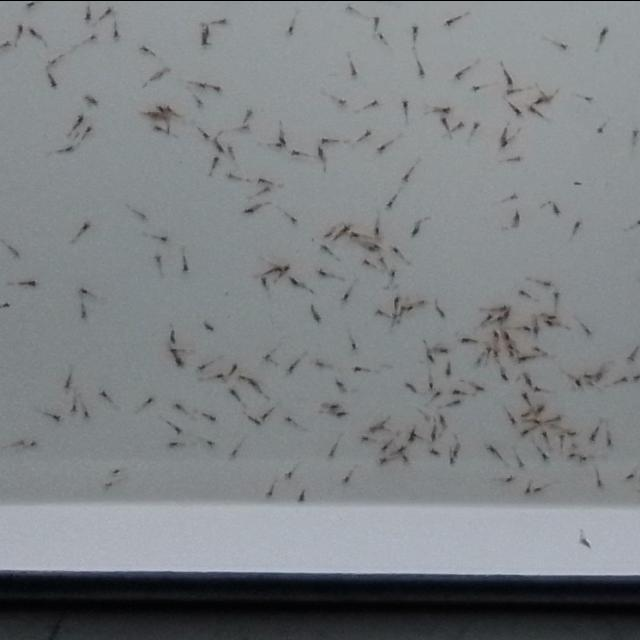shrimp-seed: (582, 322, 596, 337), (432, 304, 447, 318), (348, 61, 360, 76), (367, 98, 382, 110), (296, 488, 308, 503), (62, 374, 73, 390), (580, 534, 592, 548), (516, 288, 532, 298), (599, 26, 612, 38), (626, 349, 638, 362), (399, 98, 412, 110), (409, 224, 422, 236), (325, 446, 338, 458), (558, 39, 572, 50), (168, 327, 178, 342), (28, 26, 40, 38), (9, 245, 21, 257), (404, 381, 416, 393), (205, 321, 217, 333), (229, 362, 241, 374), (228, 388, 240, 400), (515, 456, 526, 469), (390, 244, 403, 255), (246, 204, 260, 214), (159, 64, 173, 74), (310, 311, 324, 321), (584, 93, 596, 104), (578, 452, 590, 463), (504, 473, 516, 484), (485, 443, 497, 454), (217, 15, 229, 26), (15, 22, 26, 34), (572, 220, 585, 230), (514, 103, 524, 116), (391, 296, 401, 309), (288, 276, 301, 286), (500, 126, 510, 138), (520, 408, 532, 418), (540, 450, 552, 460), (498, 372, 510, 382), (344, 2, 356, 12), (399, 173, 411, 183), (284, 24, 296, 34), (316, 146, 326, 158), (277, 134, 289, 144), (288, 214, 300, 224), (196, 79, 208, 89), (140, 42, 152, 52), (88, 94, 100, 104), (214, 142, 226, 152), (224, 144, 236, 154), (372, 226, 384, 236), (340, 292, 352, 302), (280, 264, 292, 274), (258, 274, 270, 284), (152, 253, 164, 263), (314, 358, 326, 368), (282, 469, 294, 479), (229, 448, 241, 458), (238, 373, 250, 383), (98, 388, 110, 398), (288, 148, 302, 156), (256, 176, 270, 184), (606, 435, 616, 446), (517, 354, 528, 364), (442, 18, 453, 28), (200, 34, 211, 44), (49, 76, 60, 86), (1, 39, 12, 49), (270, 264, 281, 274), (247, 378, 258, 388), (206, 438, 217, 448), (104, 480, 115, 490), (470, 83, 482, 92), (455, 120, 467, 129), (428, 447, 440, 456), (339, 224, 352, 232), (26, 278, 39, 286), (195, 364, 208, 372), (626, 470, 636, 480), (553, 204, 563, 214), (594, 477, 604, 487), (589, 432, 599, 442), (594, 372, 604, 382), (575, 378, 585, 388), (532, 324, 542, 334), (524, 372, 534, 382), (522, 323, 532, 333), (520, 428, 530, 438), (508, 415, 518, 425), (410, 24, 420, 34), (485, 312, 495, 322), (446, 456, 456, 466), (372, 14, 382, 24), (377, 30, 387, 40), (384, 198, 394, 208), (244, 107, 254, 117), (202, 28, 212, 38), (75, 114, 85, 124), (151, 108, 161, 118), (211, 156, 221, 166), (388, 266, 398, 276), (360, 256, 370, 266), (139, 210, 149, 220), (180, 262, 190, 272), (80, 309, 90, 319), (2, 300, 12, 310), (429, 429, 439, 439), (401, 454, 411, 464), (361, 434, 371, 444), (336, 409, 346, 419), (266, 488, 276, 498), (260, 410, 270, 420), (251, 416, 261, 426), (216, 370, 226, 380), (174, 356, 184, 366), (82, 408, 92, 418), (70, 402, 80, 412), (104, 5, 115, 14), (349, 341, 360, 350), (506, 72, 514, 84), (507, 191, 519, 199), (513, 209, 521, 221), (544, 320, 556, 328), (460, 335, 472, 343), (476, 384, 488, 392), (451, 398, 463, 406), (64, 144, 76, 152), (319, 244, 331, 252), (78, 286, 90, 294), (172, 424, 184, 432), (168, 438, 180, 446), (145, 396, 157, 404), (329, 401, 342, 408), (596, 126, 606, 135), (630, 128, 640, 137), (533, 383, 543, 392), (418, 66, 427, 76), (492, 329, 502, 338), (339, 96, 349, 105), (112, 28, 122, 37), (84, 123, 94, 132), (201, 131, 211, 140), (366, 245, 376, 254), (82, 222, 92, 231), (428, 353, 437, 363), (433, 388, 443, 397), (174, 402, 184, 411), (533, 484, 544, 492), (377, 144, 388, 152), (240, 122, 251, 130), (47, 58, 58, 66), (372, 242, 383, 250), (334, 378, 345, 386), (378, 456, 389, 464), (50, 412, 61, 420), (260, 185, 272, 192), (620, 375, 630, 383), (507, 87, 517, 95), (500, 139, 510, 147), (512, 154, 522, 162), (532, 97, 542, 105), (542, 278, 552, 286), (552, 290, 562, 298), (584, 371, 594, 379), (568, 430, 578, 438), (520, 391, 530, 399), (537, 404, 547, 412), (533, 417, 543, 425), (540, 429, 550, 437), (472, 120, 482, 128), (440, 117, 450, 125), (495, 315, 505, 323), (502, 331, 512, 339), (507, 350, 517, 358), (486, 344, 494, 354), (452, 388, 462, 396), (453, 446, 461, 456), (363, 128, 373, 136), (321, 135, 331, 143), (274, 140, 284, 148), (196, 98, 206, 106), (84, 12, 94, 20), (88, 32, 98, 40), (162, 104, 172, 112), (154, 122, 162, 132), (350, 230, 360, 238), (406, 304, 416, 312), (375, 307, 385, 315), (318, 268, 328, 276), (159, 234, 169, 242), (440, 346, 450, 354), (445, 366, 453, 376), (428, 380, 436, 390), (286, 364, 296, 372), (260, 352, 270, 360), (285, 414, 295, 422), (112, 466, 122, 474), (322, 230, 332, 238), (530, 105, 538, 114), (554, 413, 563, 421), (377, 255, 386, 263), (418, 298, 427, 306), (439, 414, 448, 422), (353, 364, 362, 372), (342, 476, 351, 484), (209, 413, 218, 421), (567, 451, 577, 458), (548, 313, 558, 320), (556, 433, 566, 440), (442, 105, 452, 112), (25, 1, 35, 8), (398, 444, 408, 451), (632, 374, 640, 382), (545, 94, 553, 102), (524, 486, 532, 494), (454, 71, 462, 79), (504, 310, 512, 318), (494, 349, 502, 357), (475, 357, 483, 365), (214, 84, 222, 92), (408, 436, 416, 444), (170, 346, 178, 354), (411, 431, 420, 438), (380, 444, 389, 451), (225, 172, 235, 178), (588, 380, 596, 387), (572, 441, 580, 448), (501, 302, 508, 310), (508, 342, 516, 349), (401, 303, 408, 311), (30, 439, 38, 446), (533, 346, 542, 352), (442, 108, 451, 114), (156, 105, 165, 111), (370, 424, 376, 432), (18, 438, 26, 444)
